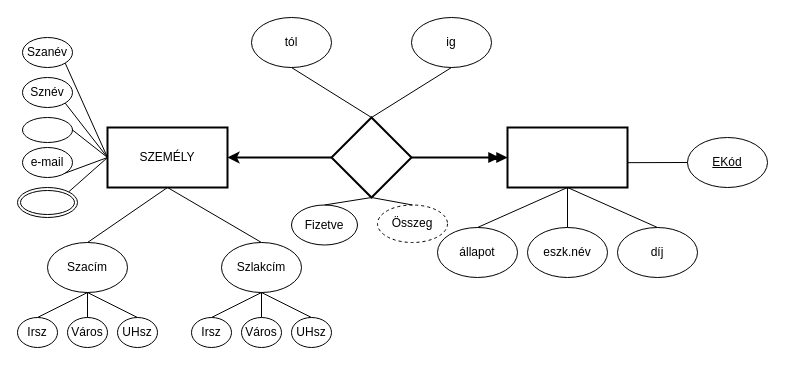
Some shapes in this 785 by 365 pixel diagram are drawn without their labels. Each missing label, with the centre of its shape:
"ESZKÖZ" goes at point (567, 157).
"KÖLCSÖN" goes at point (371, 157).
"SzKód" goes at point (47, 129).
"Telefon.sz" goes at point (47, 202).
